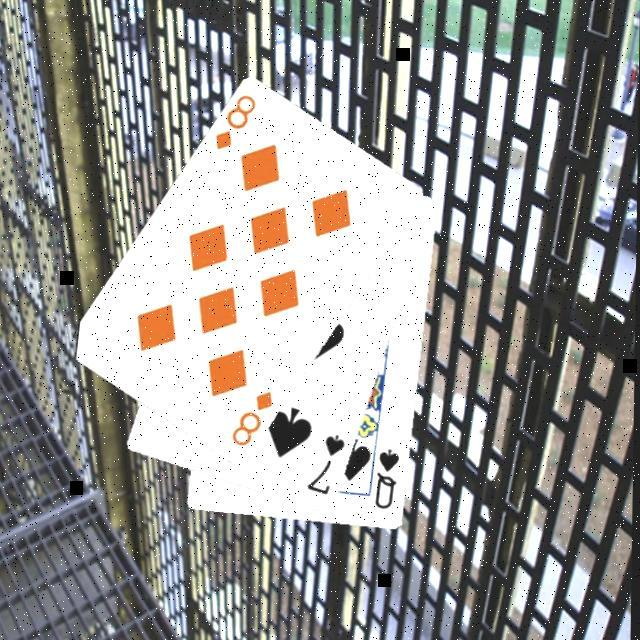7S: (304, 431, 350, 498)
8D: (228, 386, 277, 449), (210, 91, 259, 153)
QS: (373, 444, 404, 512)
